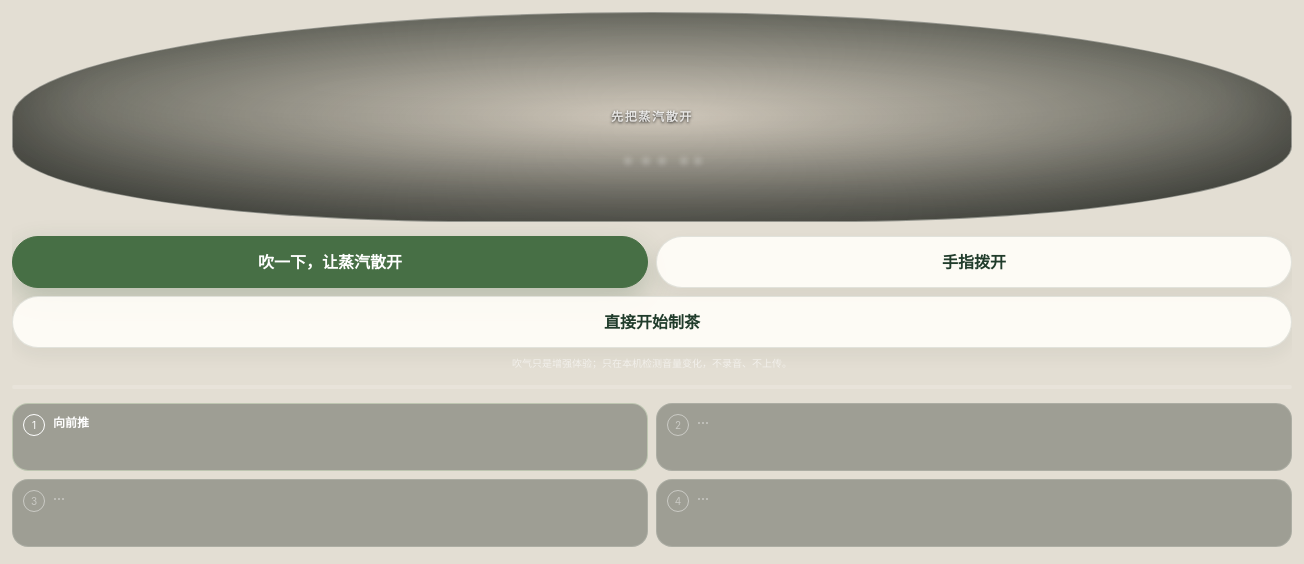
Test: Realm scene visual controllers › releases microphone and AudioContext on page hide, then offers the wipe fallback
Click the button "吹一下，让蒸汽散开" at (330, 262), box [12,236,648,288]
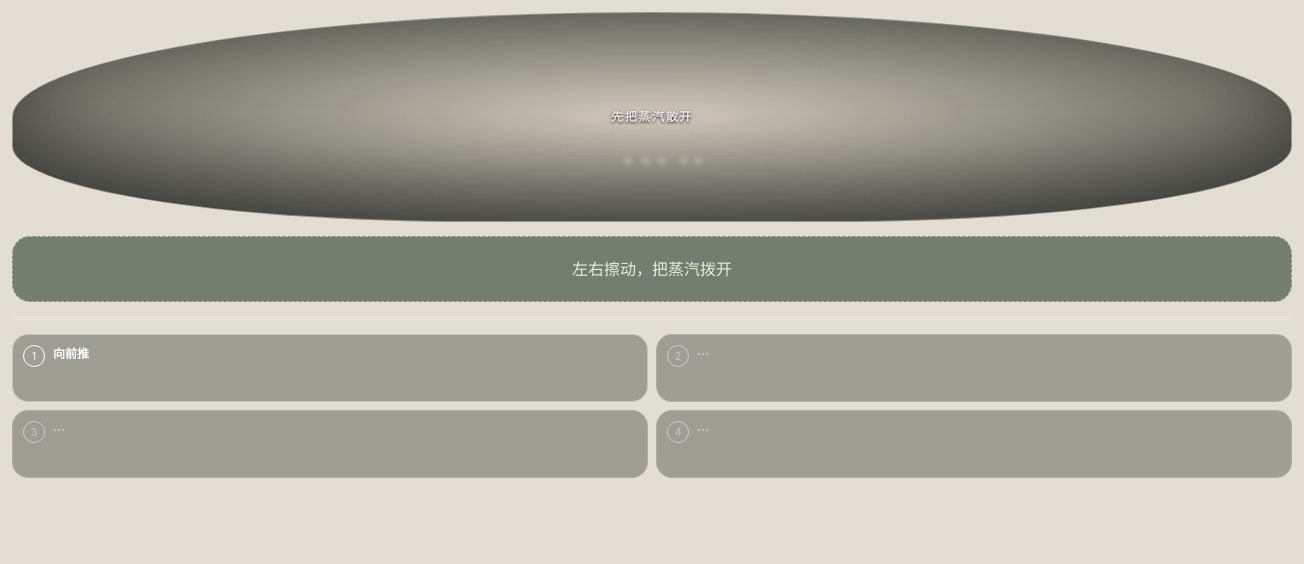
expect the button with aria-label "左右擦开蒸汽" is shown: met, box [12,236,1292,302]
